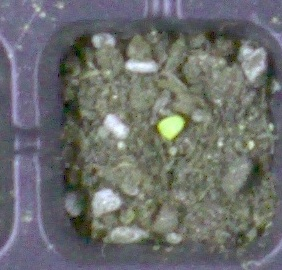chilli seed: (156, 115, 185, 140)
